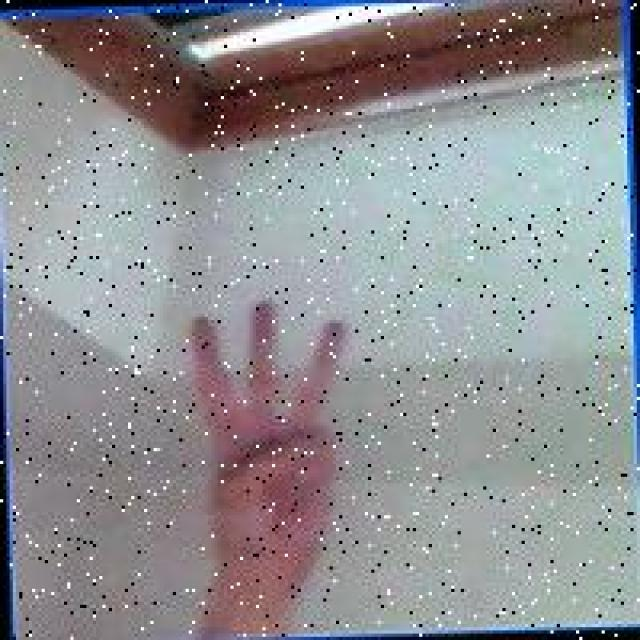W: (179, 296, 362, 578)
